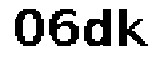0: (13, 5, 45, 48)
6: (49, 5, 81, 49)
d: (84, 7, 114, 51)
k: (117, 6, 153, 52)
